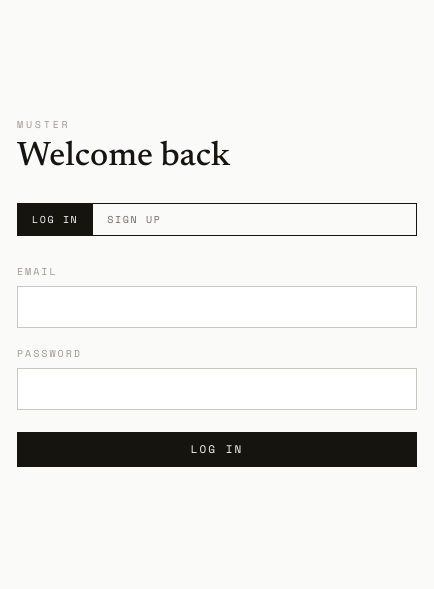
Test case: AuthView › shows per-field errors on a multi-field sign-up validation failure (R9/C)
Click the button "Sign Up": (134, 220) top-left (92, 204), bottom-right (175, 235)
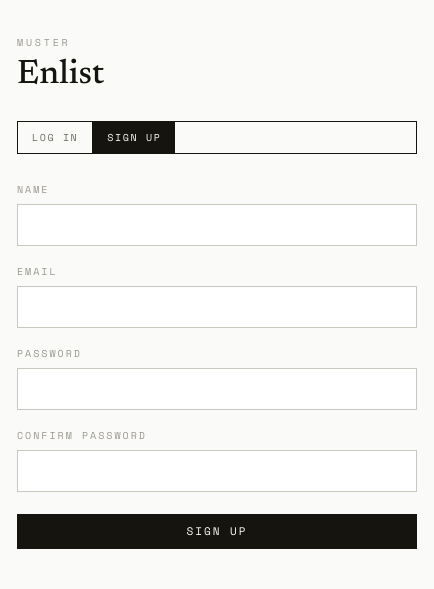
In the field labelled "Name": (217, 225) top-left (17, 204), bottom-right (417, 246), type "Kesh"
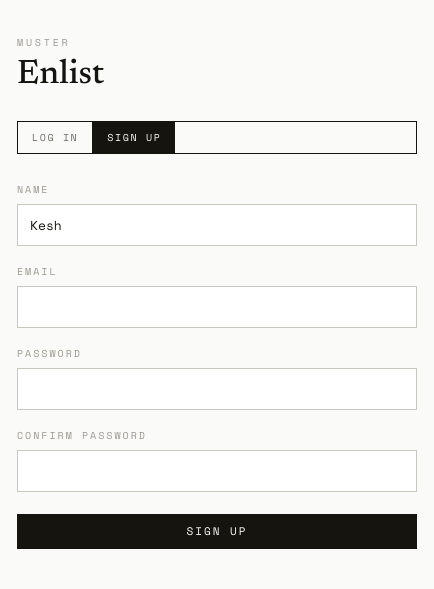
In the field labelled "Email": (217, 307) top-left (17, 286), bottom-right (417, 328), type "bad"
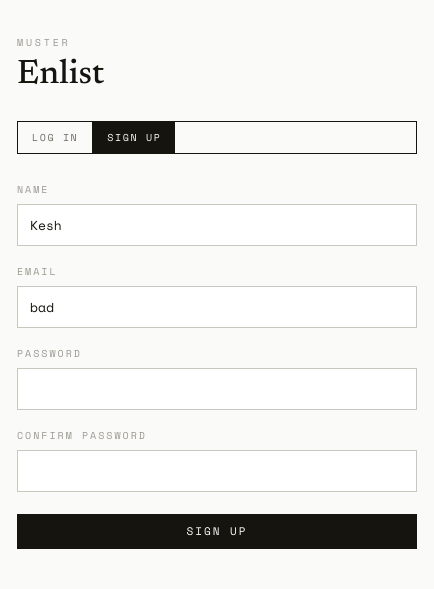
In the password field labelled "Password": (217, 389) top-left (17, 368), bottom-right (417, 410), type "x"
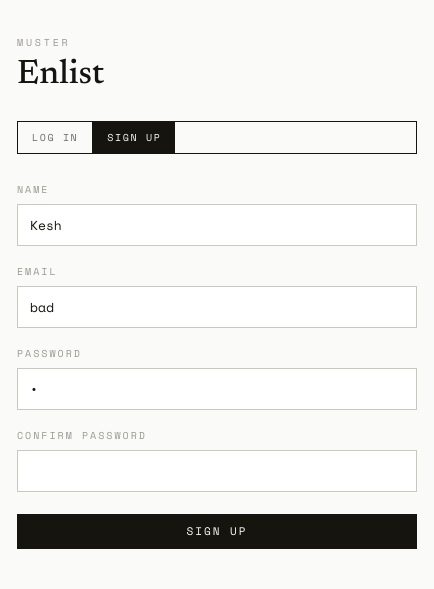
In the password field labelled "Confirm Password": (217, 471) top-left (17, 450), bottom-right (417, 492), type "x"
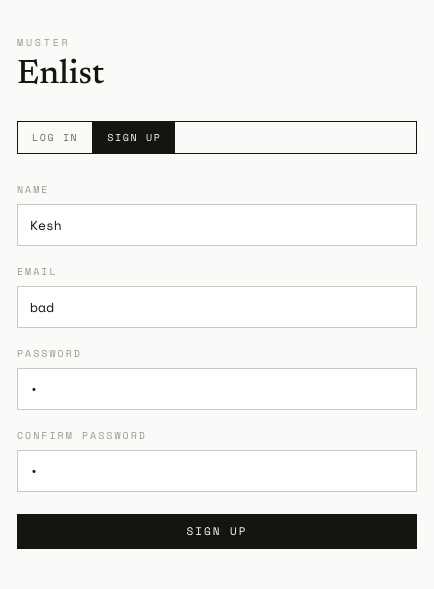
Click the button "Sign Up" below "Confirm Password": (217, 532) top-left (17, 514), bottom-right (417, 549)
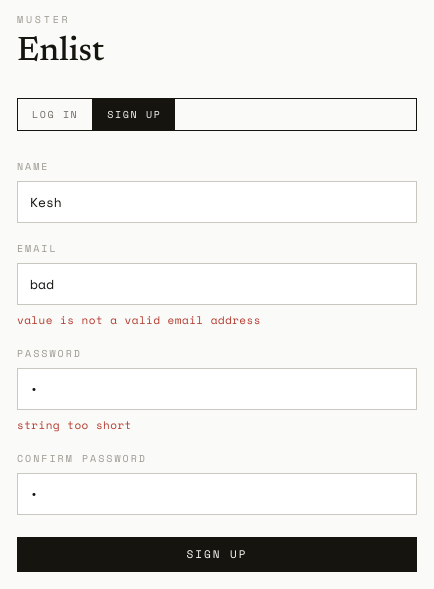
Expected: the text "value is not a valid email address" is shown, top-left (17, 312), bottom-right (261, 328)
Expected: the text "string too short" is shown, top-left (17, 417), bottom-right (132, 433)
